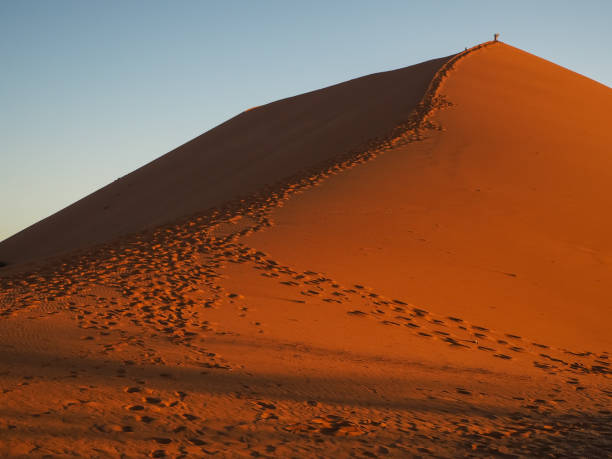human_foot_print: (0, 151, 611, 456), (40, 242, 611, 456)
